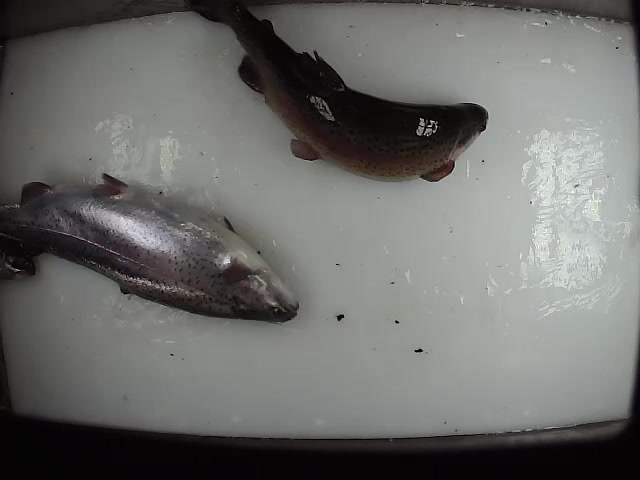fish: (183, 1, 490, 185), (1, 170, 301, 324)
